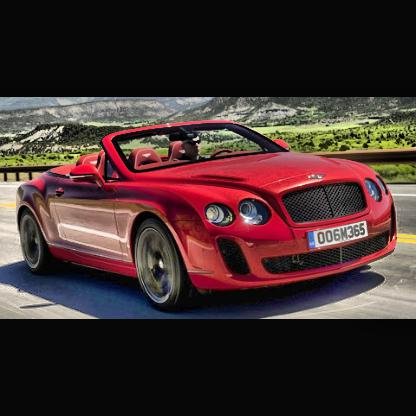Bentley Continental Supersports Conv- Convertible 2012: (18, 121, 401, 306)
